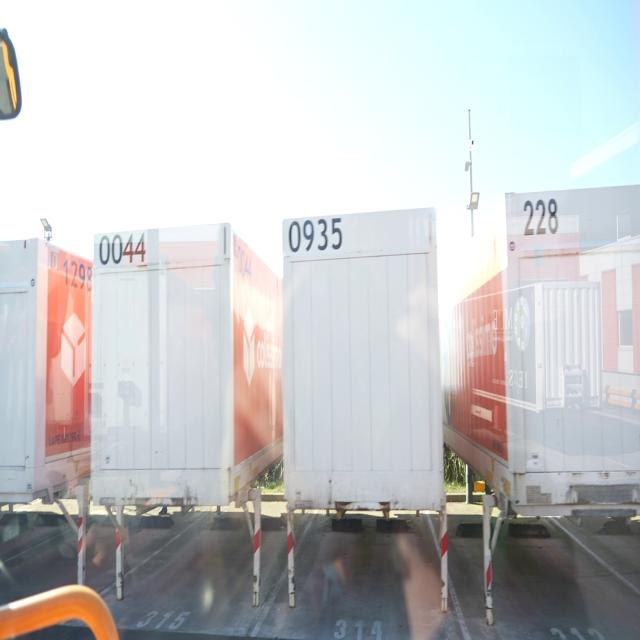Code: (287, 212, 343, 256), (97, 230, 150, 267), (521, 192, 561, 238), (58, 250, 94, 298)
